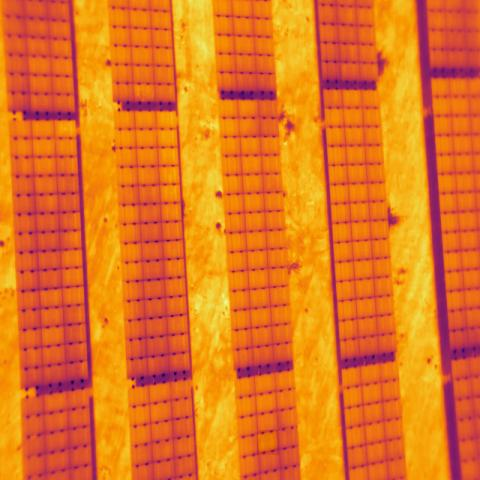fault: (257, 430, 280, 455)
